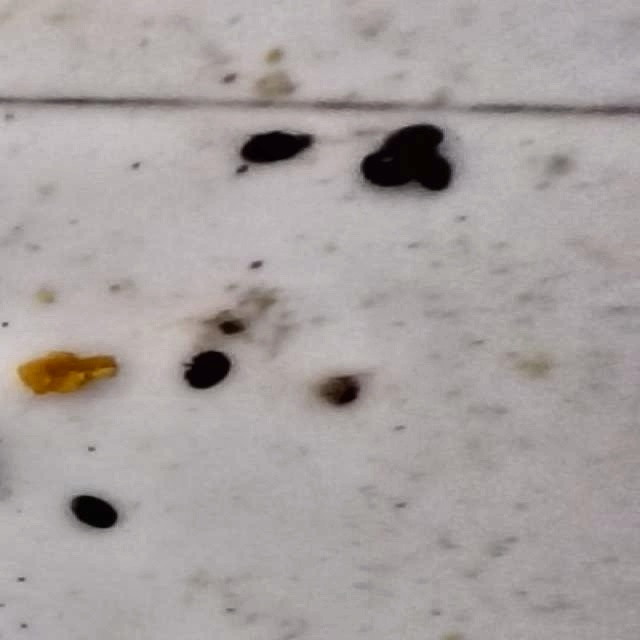varroa: (239, 133, 315, 166), (380, 123, 451, 156), (357, 153, 413, 192), (182, 352, 232, 394), (70, 495, 117, 533), (409, 154, 454, 190)
